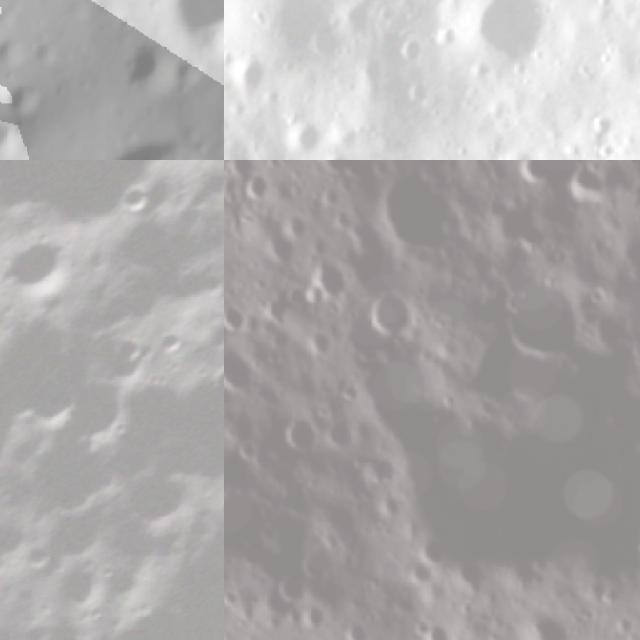crater: (0, 160, 186, 265), (0, 416, 132, 545), (429, 0, 583, 96), (46, 359, 160, 472), (111, 451, 218, 557), (99, 198, 201, 300), (0, 218, 91, 325), (376, 170, 456, 260), (34, 543, 118, 625), (0, 593, 122, 640), (224, 29, 289, 111), (187, 450, 224, 590), (0, 491, 45, 590), (109, 170, 169, 230), (277, 103, 340, 160), (387, 24, 438, 78), (123, 48, 174, 90), (563, 160, 606, 209), (303, 248, 345, 298), (367, 295, 416, 336), (520, 139, 608, 160), (5, 84, 42, 117), (313, 139, 360, 160), (224, 353, 250, 390), (510, 160, 554, 180), (368, 0, 422, 15), (224, 300, 242, 334), (245, 178, 268, 202), (421, 623, 452, 640), (239, 148, 282, 160)
